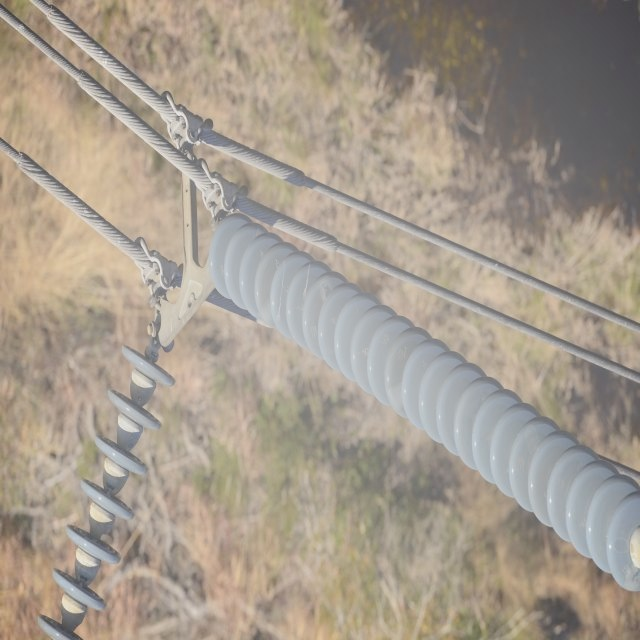insulator: (209, 213, 640, 592), (35, 343, 176, 640)
